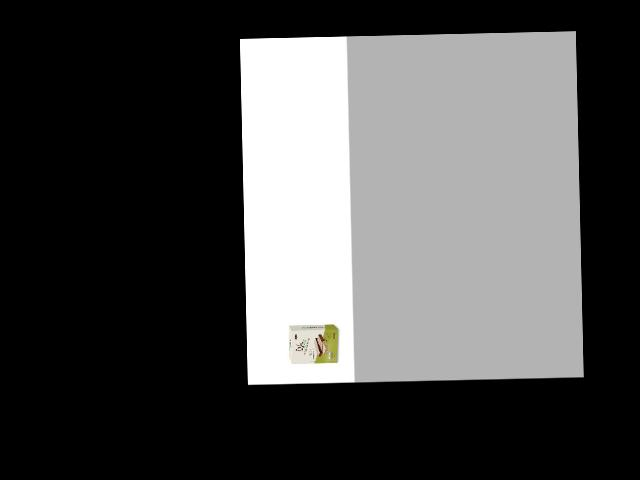chocolate: (288, 321, 340, 365)
